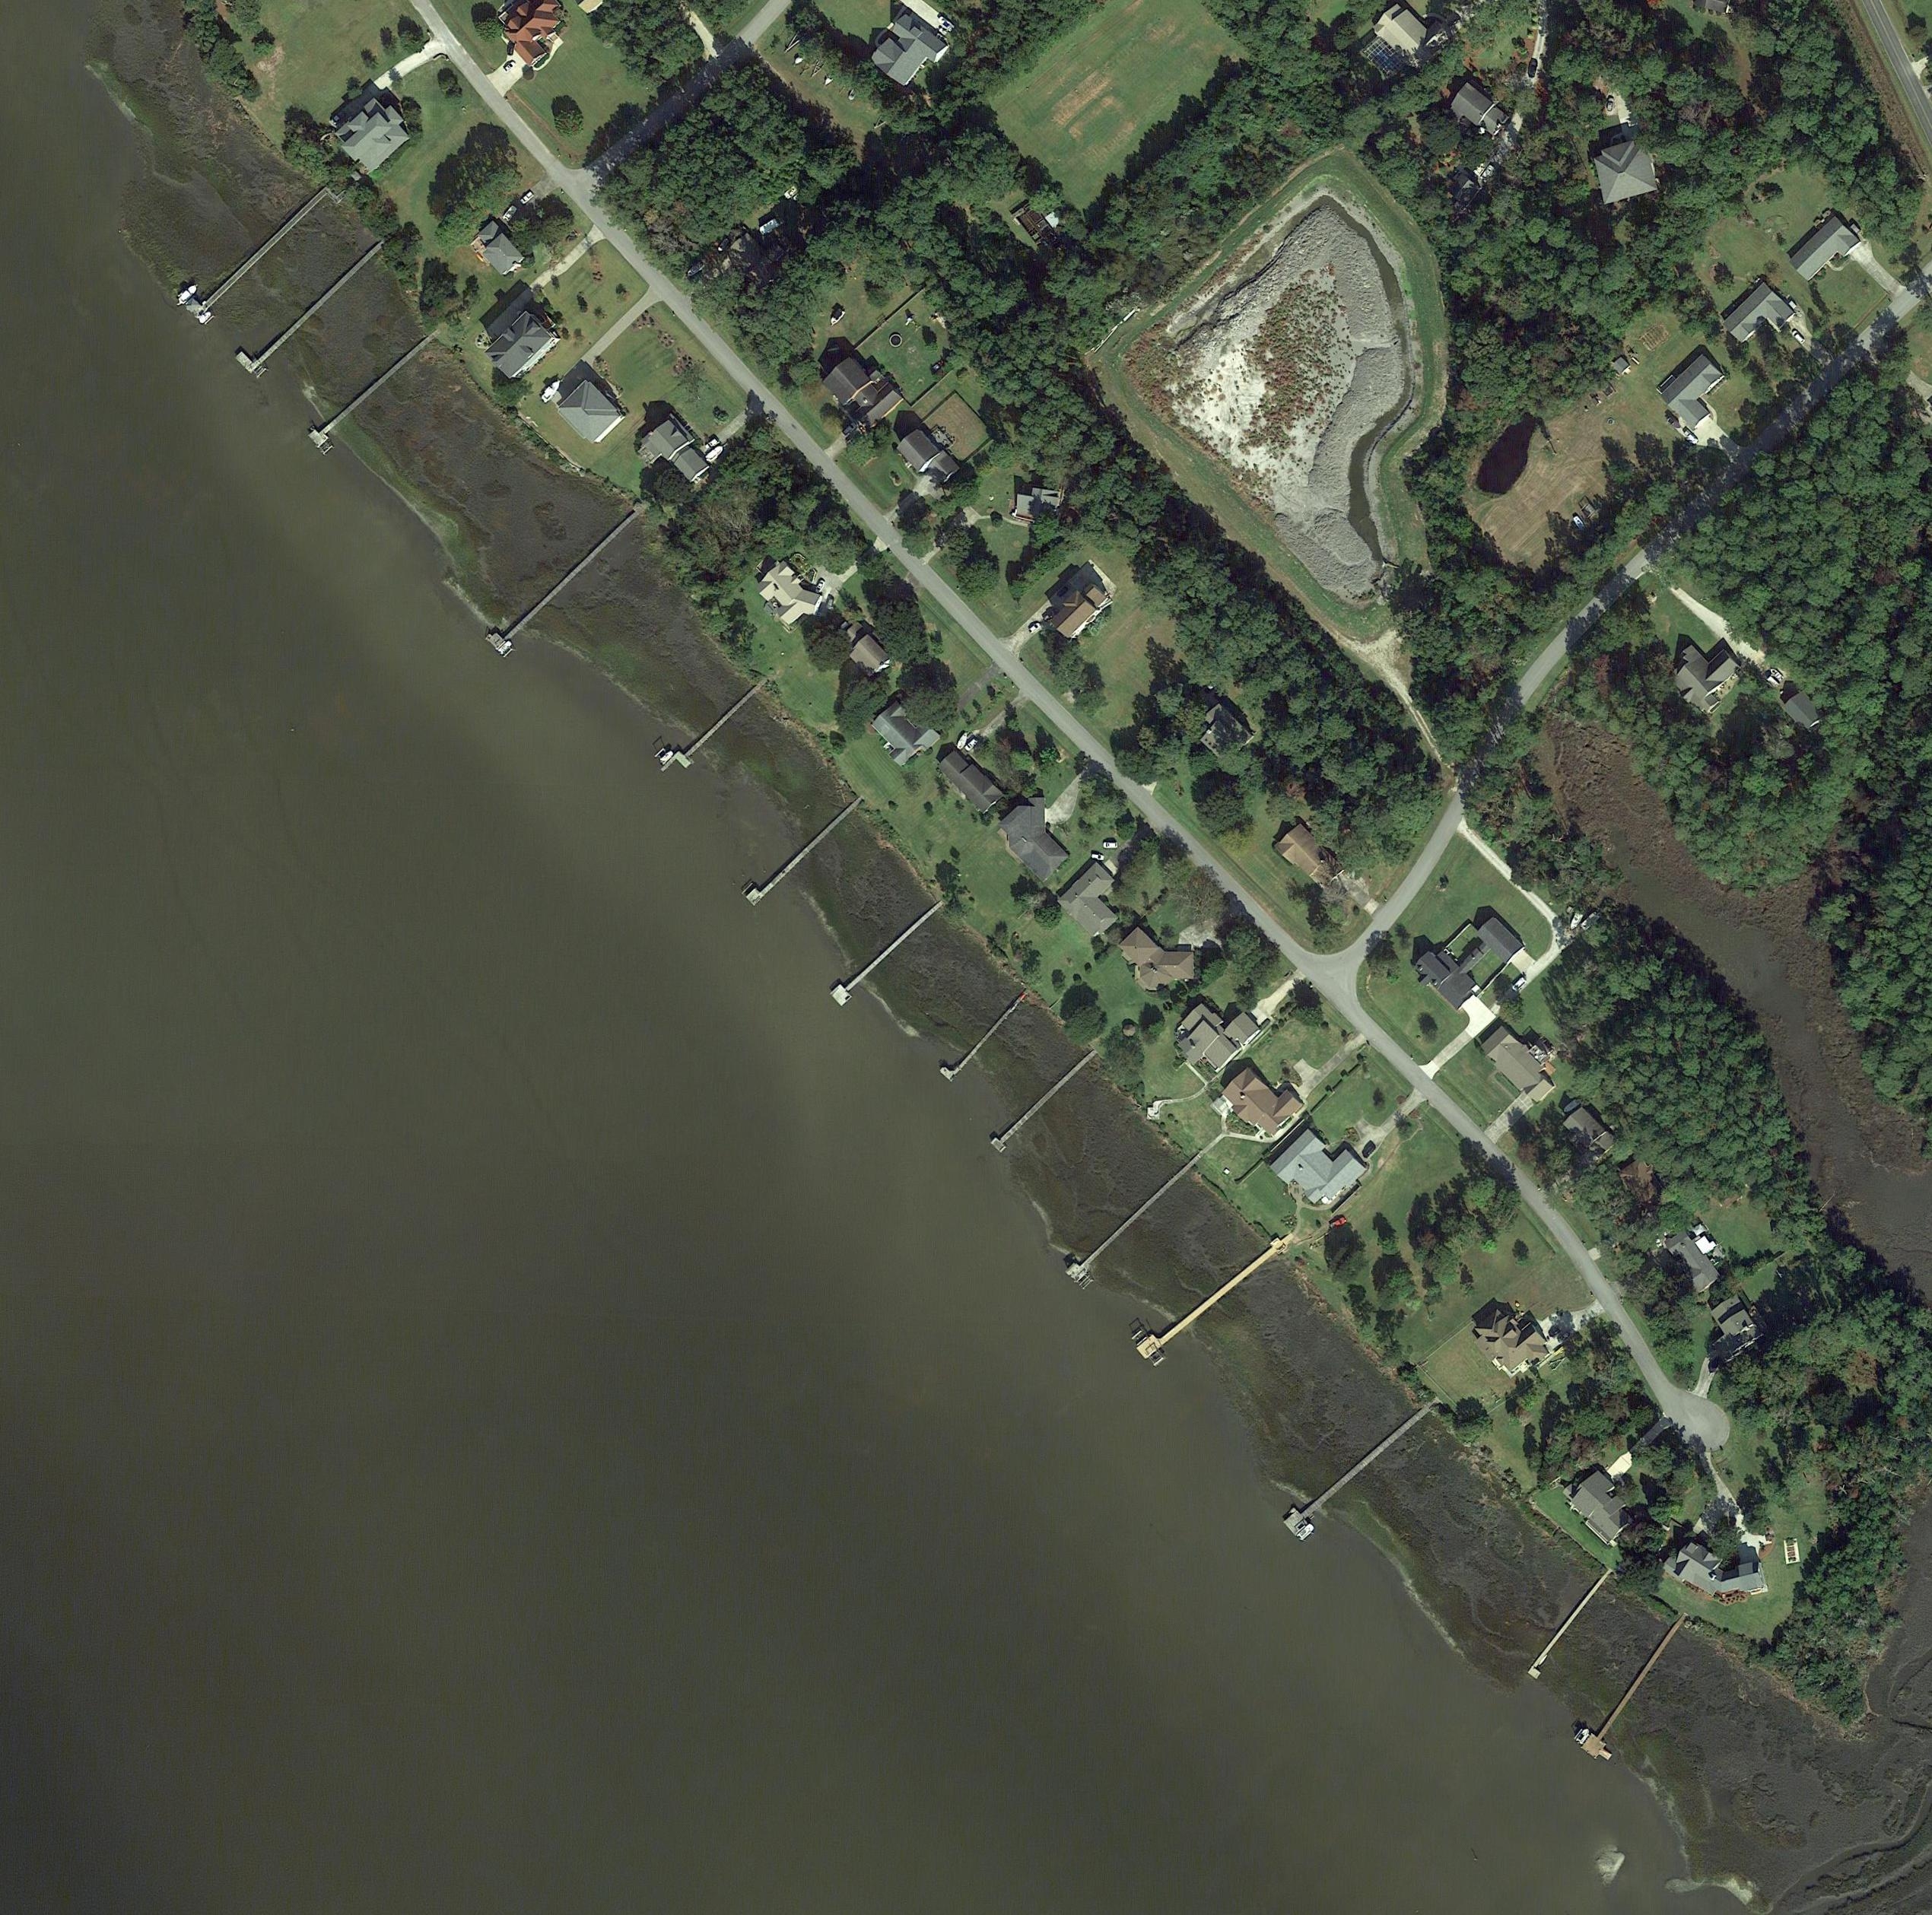harbor: (486, 502, 640, 651), (1136, 1224, 1294, 1359), (235, 235, 382, 375), (184, 181, 328, 321), (1066, 1147, 1208, 1284), (1283, 1406, 1432, 1536), (1581, 1615, 1697, 1766), (307, 333, 437, 449), (745, 791, 864, 907), (829, 898, 947, 1008), (989, 1047, 1099, 1152), (661, 682, 764, 782), (1527, 1570, 1616, 1680), (940, 986, 1031, 1082)
ship: (174, 281, 202, 307), (538, 377, 563, 405), (703, 442, 728, 465), (1581, 910, 1602, 933), (759, 217, 785, 235), (784, 179, 805, 200), (827, 307, 849, 328), (1296, 1522, 1317, 1543), (1562, 1096, 1583, 1115), (684, 261, 705, 279), (1574, 1726, 1592, 1747), (1567, 910, 1585, 931), (1767, 666, 1786, 684), (938, 14, 955, 33), (657, 749, 675, 766), (1511, 975, 1529, 993), (1573, 514, 1588, 533), (954, 731, 970, 751), (198, 310, 216, 326), (501, 205, 517, 223), (498, 640, 512, 654)
